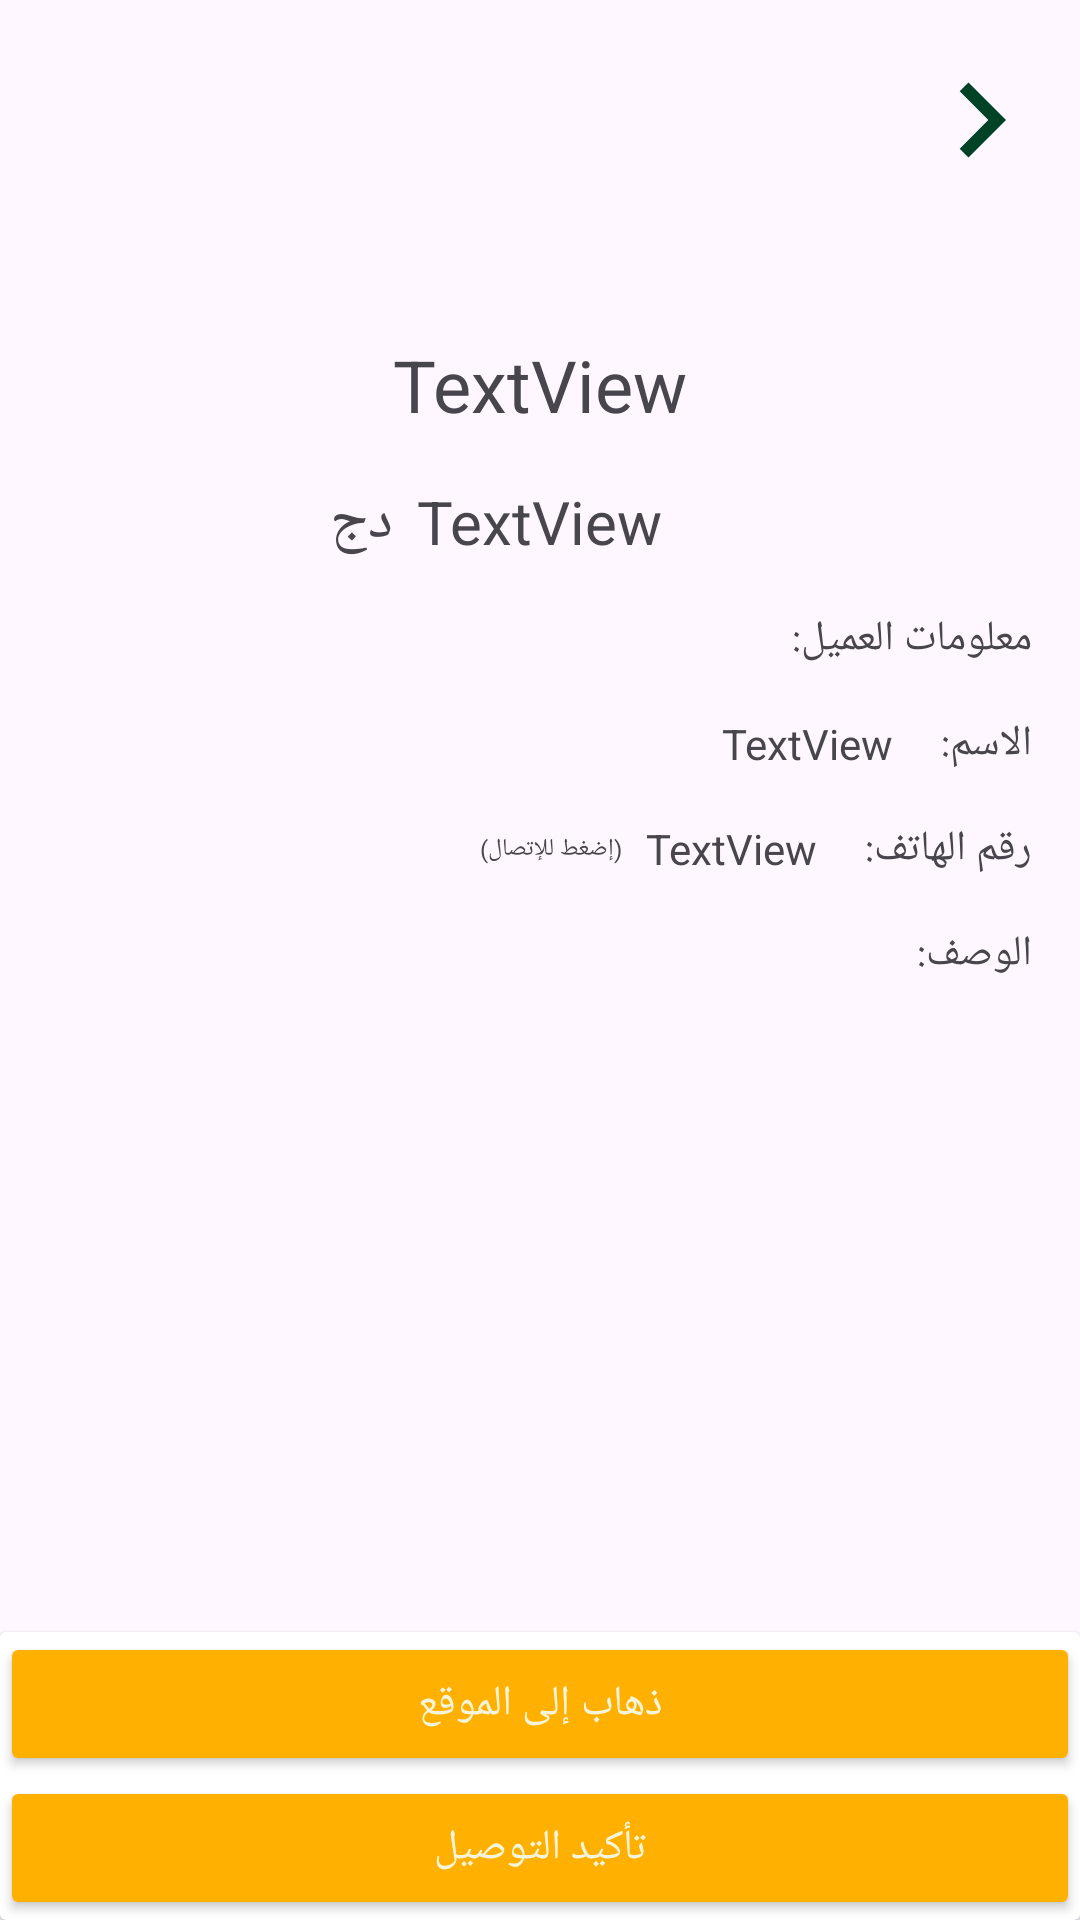

Icon click points for this 1080 x 1920 phone screenshot, format (x=x, y=y):
chevron right: (x=983, y=120)
